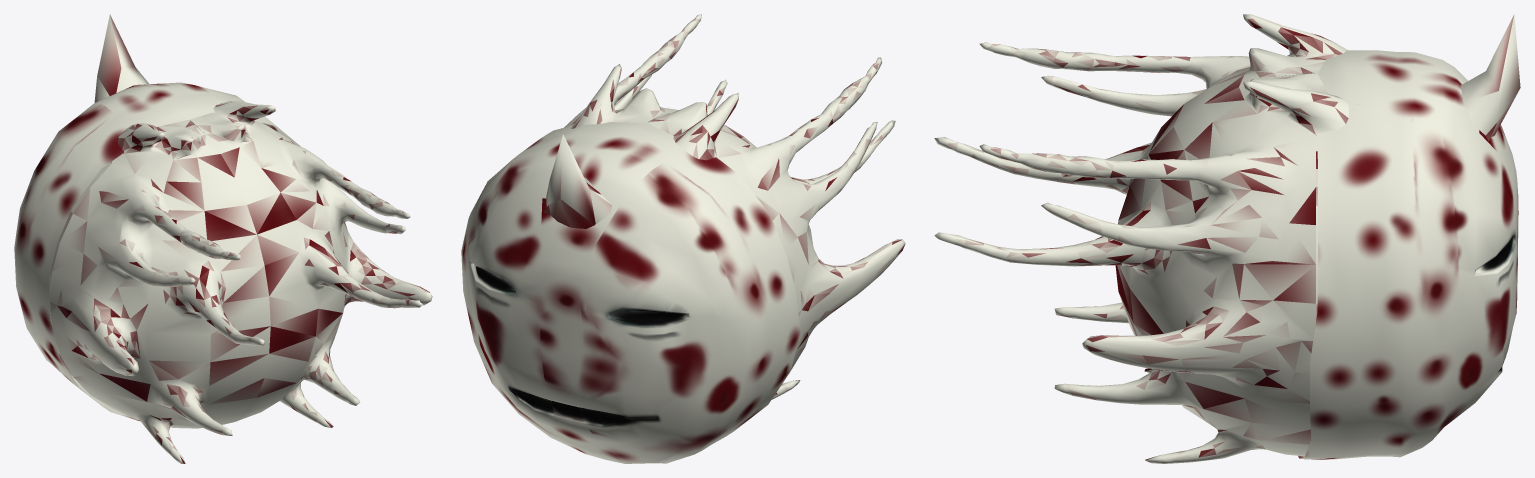
Rendered from ENEMY_MELLE.fbx.
The picture shows the model from 3 angles, left to right: view 1: azimuth 30°, elevation 25°; view 2: azimuth 150°, elevation 25°; view 3: azimuth 270°, elevation 25°; orthographic projection. The views are drawn at different scales.
Visible parts, largest first — view 1: Sphere.004, Empty_Mesh.001; view 2: Empty_Mesh.001, Sphere.004; view 3: Sphere.004, Empty_Mesh.001.
Boxes of the visible parts, x1=… form: Sphere.004: x1=49, y1=14, x2=432, y2=463; Empty_Mesh.001: x1=14, y1=82, x2=300, y2=420; Empty_Mesh.001: x1=461, y1=122, x2=800, y2=463; Sphere.004: x1=544, y1=14, x2=905, y2=399; Sphere.004: x1=934, y1=14, x2=1520, y2=463; Empty_Mesh.001: x1=1298, y1=50, x2=1518, y2=459.
Size of the model in its own units: 428 by 465 by 582.
1 material, 1 textured.
